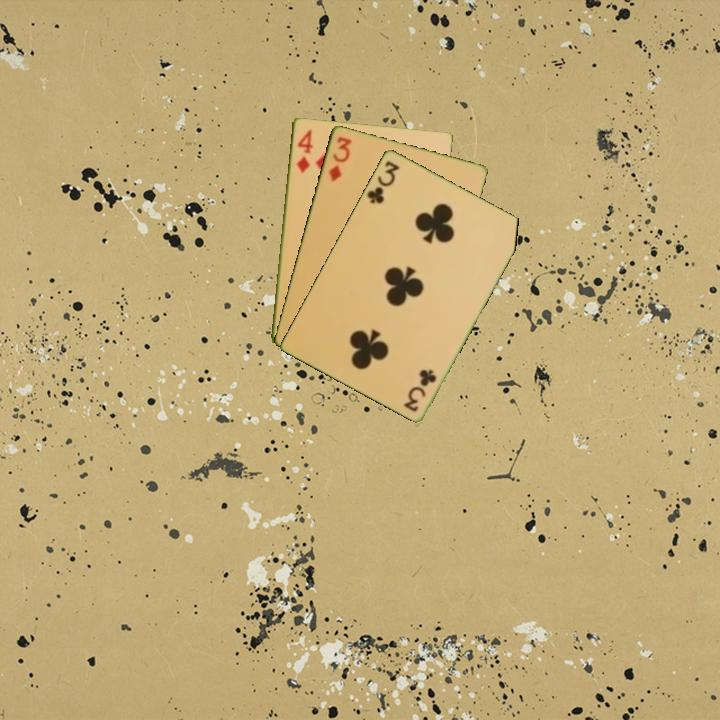3c: (363, 157, 402, 207), (401, 365, 439, 414)
3d: (325, 133, 354, 184)
4d: (292, 126, 315, 175)
